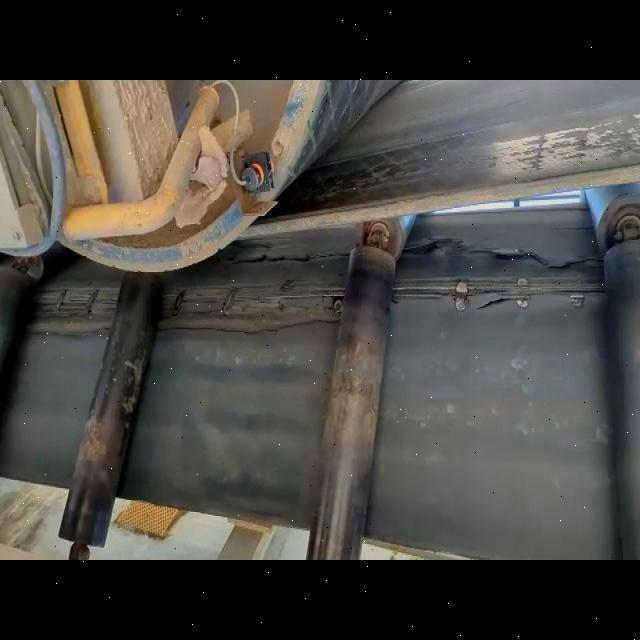Tear: (153, 293, 354, 347), (397, 233, 606, 277), (386, 281, 602, 319), (16, 282, 126, 340), (212, 243, 356, 276)
